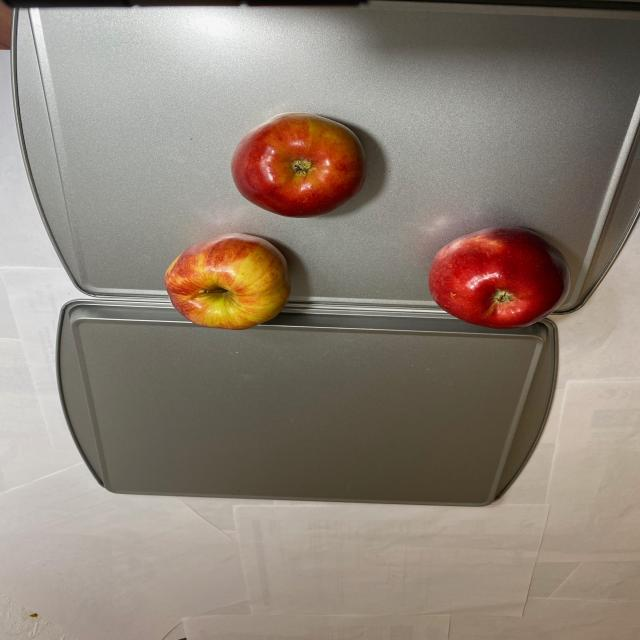Apple: (161, 112, 370, 331), (422, 225, 574, 328)
